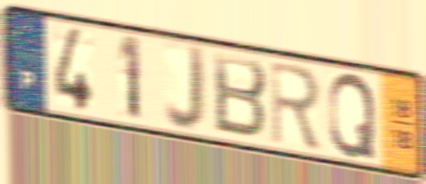1: (117, 33, 142, 126)
4: (52, 25, 96, 115)
B: (211, 49, 269, 142)
J: (163, 41, 208, 136)
Q: (327, 70, 378, 162)
R: (268, 58, 324, 153)
